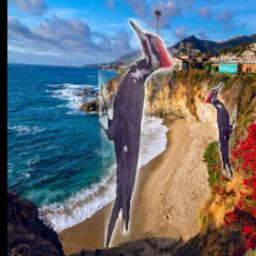Woodpecker: (97, 19, 172, 248), (205, 83, 237, 180)
